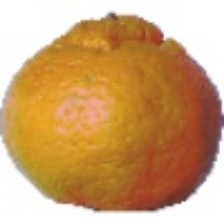tangerine: (52, 30, 205, 181)
